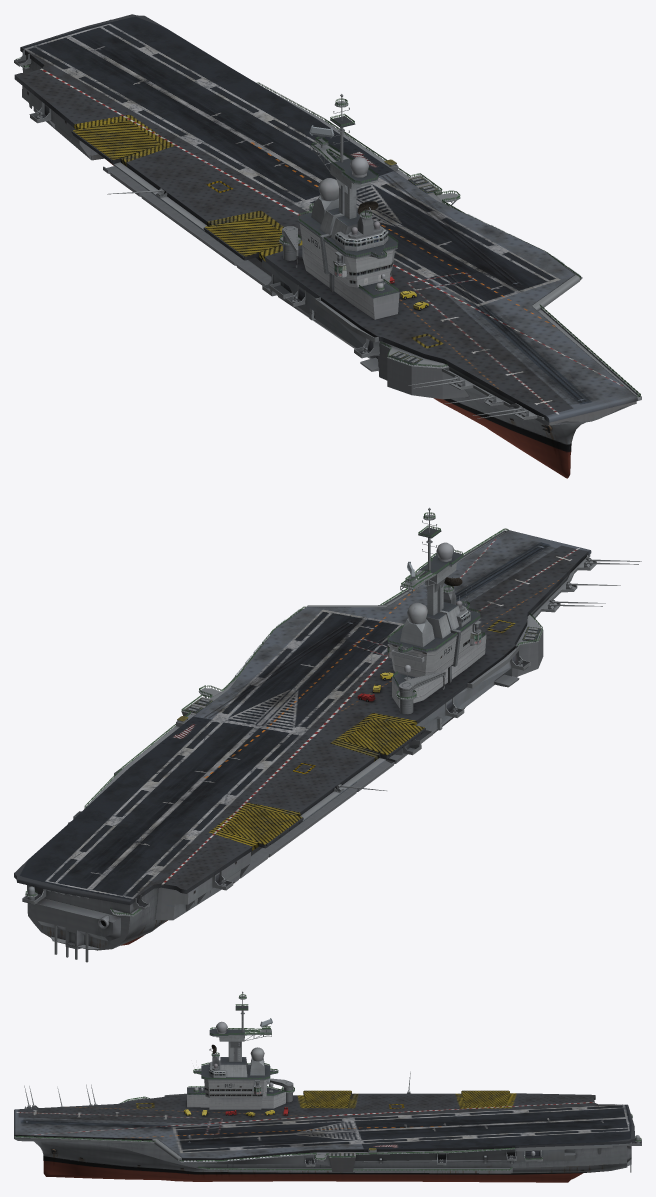
The model's file is aircraft carrier.glb.
3 renders of one model, top to bottom at view 1: azimuth 30°, elevation 25°; view 2: azimuth 150°, elevation 25°; view 3: azimuth 270°, elevation 25°, orthographic. The views are drawn at different scales.
Visible parts, largest first — view 1: skfb_offset; view 2: skfb_offset; view 3: skfb_offset.
Part boxes in pixels (x1=…): skfb_offset: x1=14, y1=14, x2=641, y2=478; skfb_offset: x1=14, y1=507, x2=641, y2=962; skfb_offset: x1=14, y1=991, x2=641, y2=1182.
Bounding box in the file's own units: 17283 × 16756 × 55166.
Materials: 3 (3 with a texture image).
